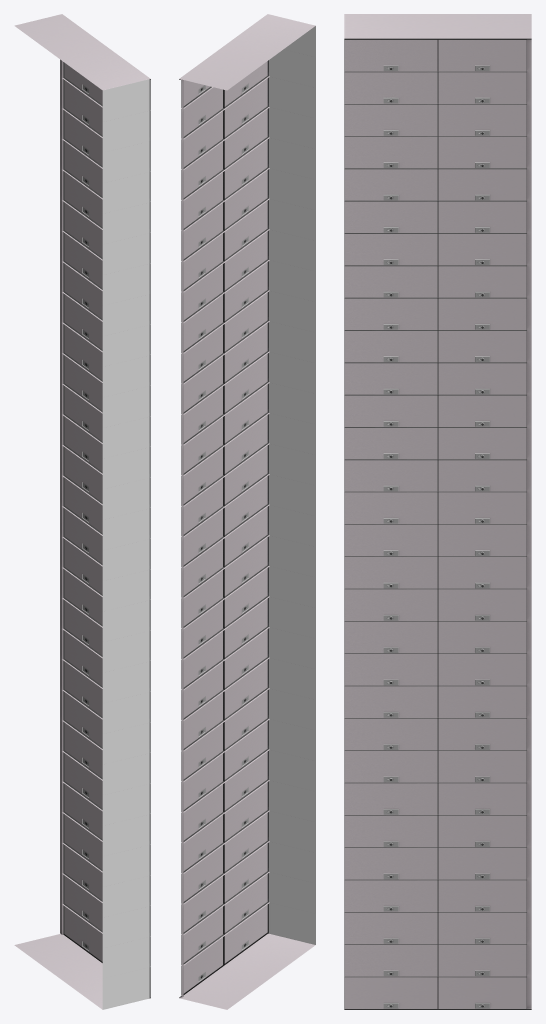
Rendered from locker.obj.
The picture shows the model from 3 angles, left to right: view 1: azimuth 30°, elevation 25°; view 2: azimuth 150°, elevation 25°; view 3: azimuth 270°, elevation 25°; orthographic projection. The views are drawn at different scales.
Parts seen in each view (by area): view 1: locker_Cube.001; view 2: locker_Cube.001; view 3: locker_Cube.001.
Part boxes in pixels (x1,y1,x2,y2): locker_Cube.001: (14,14,150,1009); locker_Cube.001: (179,14,315,1009); locker_Cube.001: (344,14,531,1009).
Bounding box in the file's own units: 0.5202 × 9.16 × 1.6.
3 materials, 3 textured.
